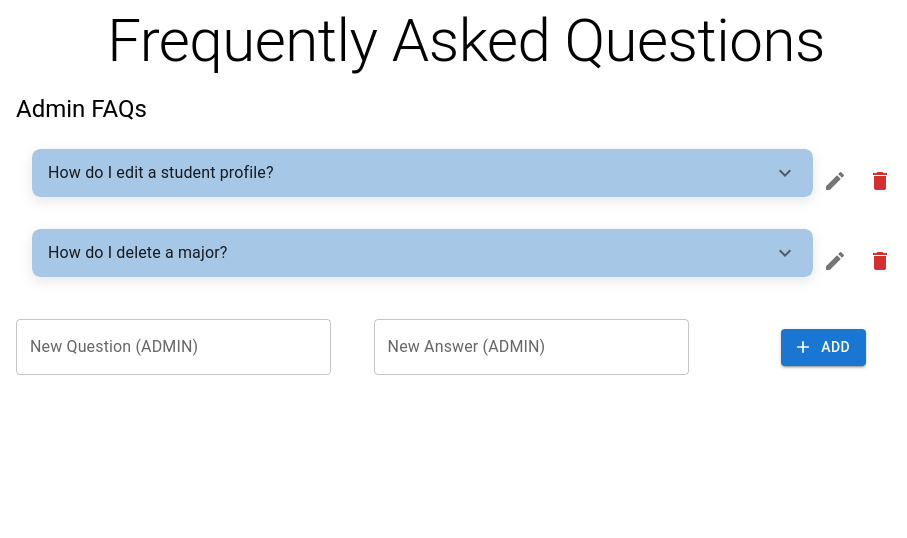
Test: FAQs › admin functions › editing › shows edit button; shows save button after clicking edit
Step 1. Click the 1st button with test id "edit-btn" → click(835, 181), box [815,149,855,213]
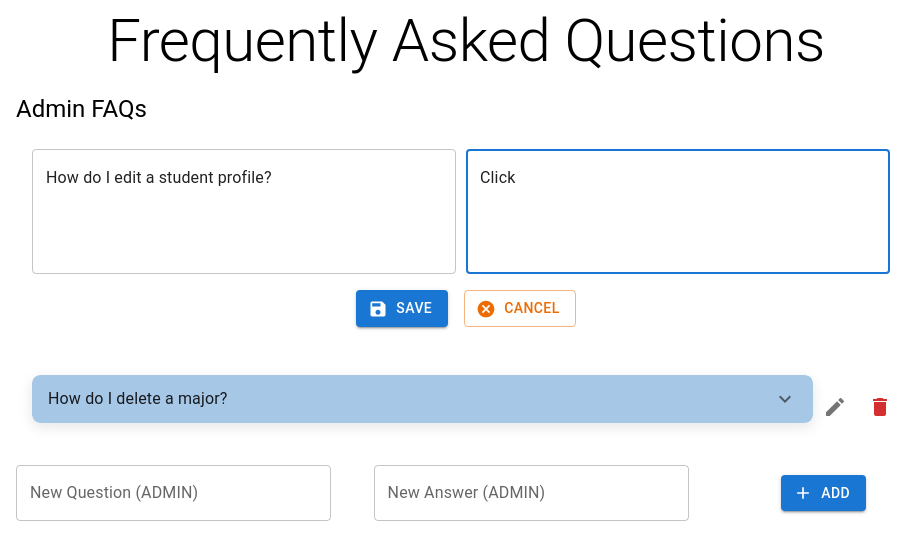
Check: the button with test id "save-btn" is shown, box [356,290,448,327]
